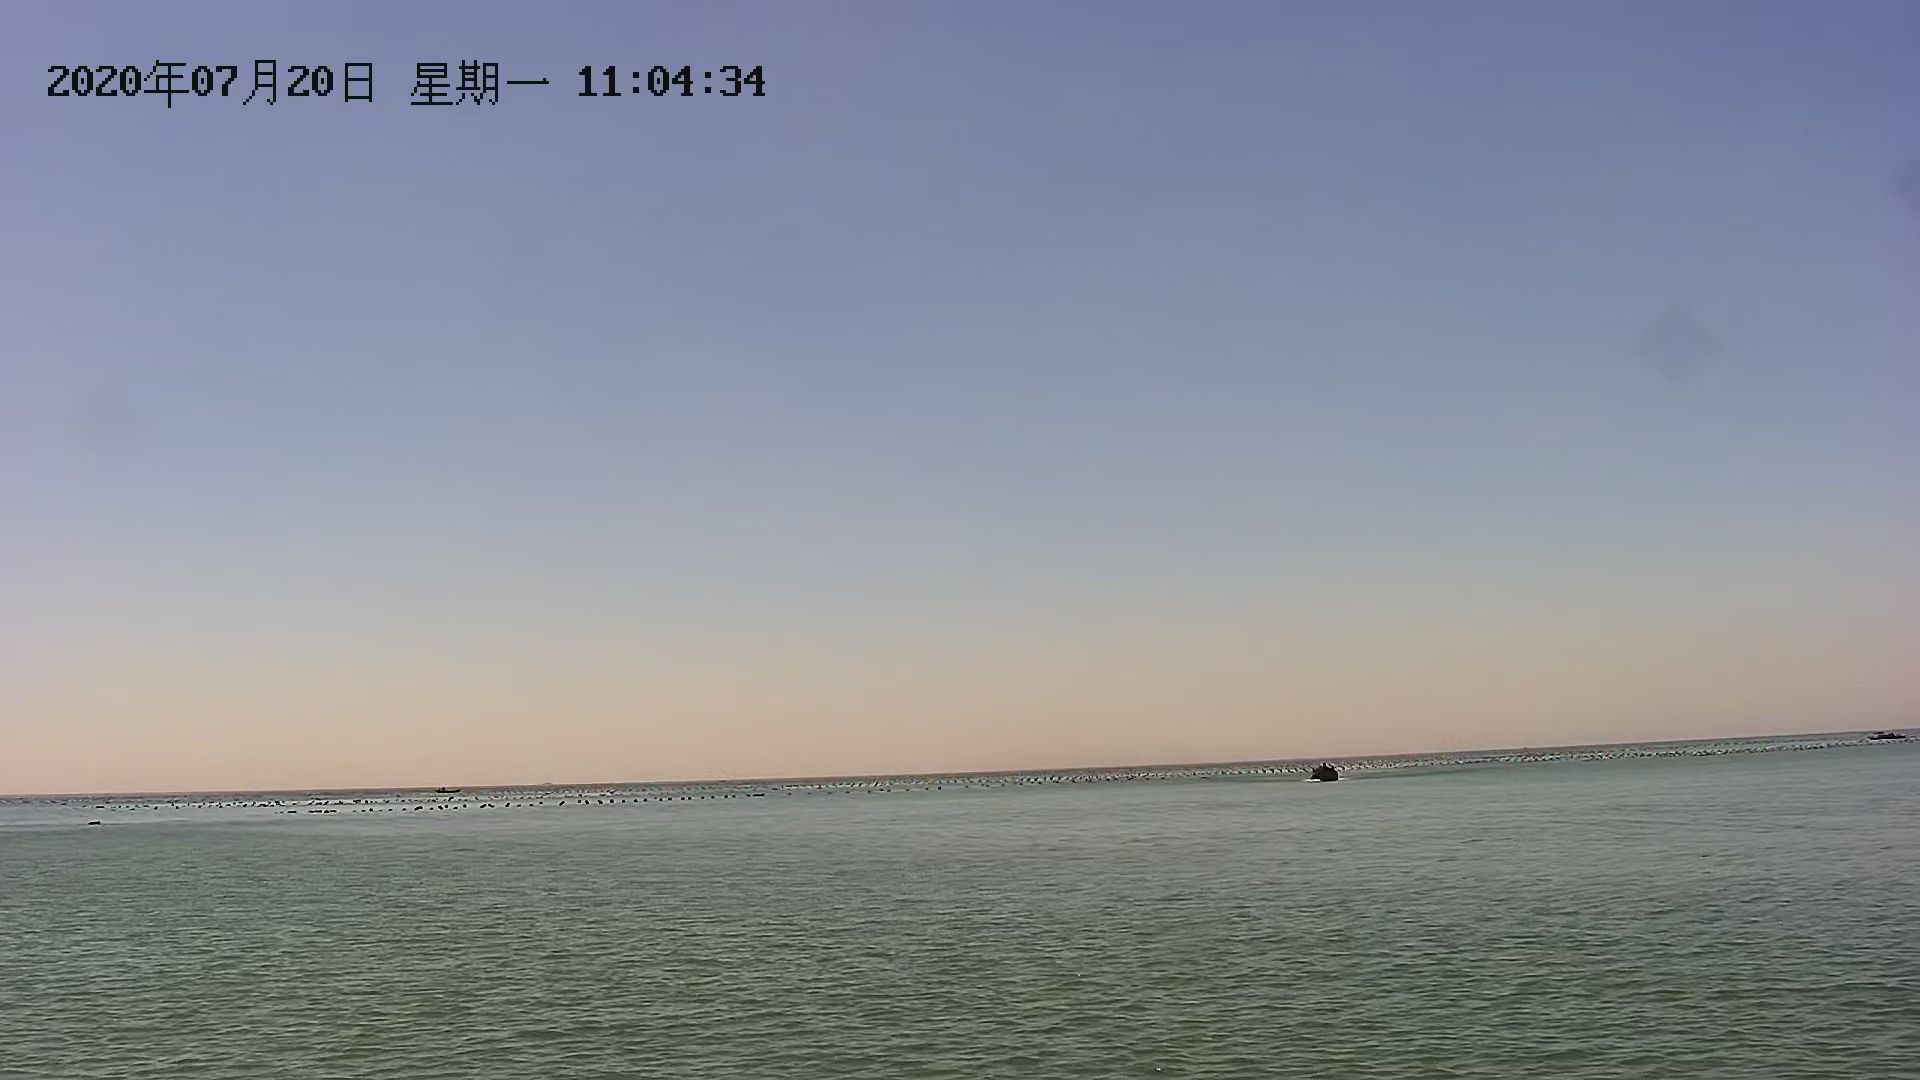ball: (1305, 762, 1346, 789)
